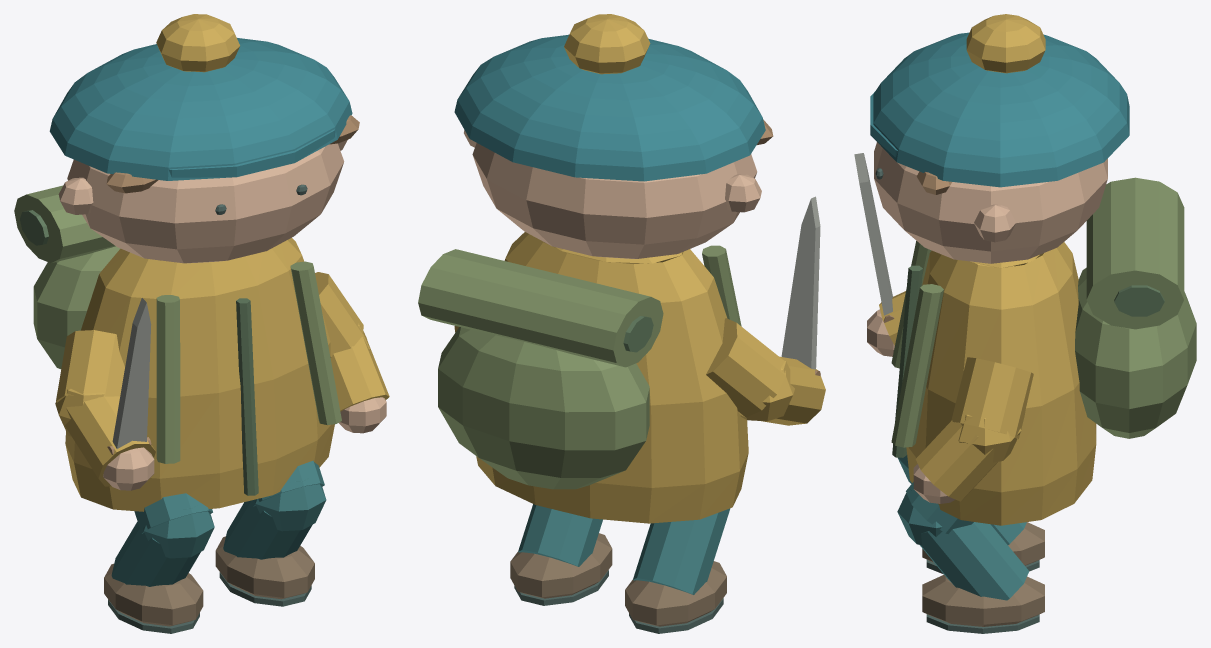
File: traveler-reference.gltf
The picture shows the model from 3 angles, left to right: view 1: azimuth 30°, elevation 25°; view 2: azimuth 150°, elevation 25°; view 3: azimuth 270°, elevation 25°; orthographic projection. The views are drawn at different scales.
Visible parts, largest first — view 1: Right-handed traveler reference; view 2: Right-handed traveler reference; view 3: Right-handed traveler reference.
Boxes of the visible parts, x1,y1,x2,y2 form: Right-handed traveler reference: (14, 14, 389, 633); Right-handed traveler reference: (418, 14, 825, 633); Right-handed traveler reference: (854, 14, 1196, 633).
Size of the model in its own units: 1.36 by 2.35 by 1.26.
